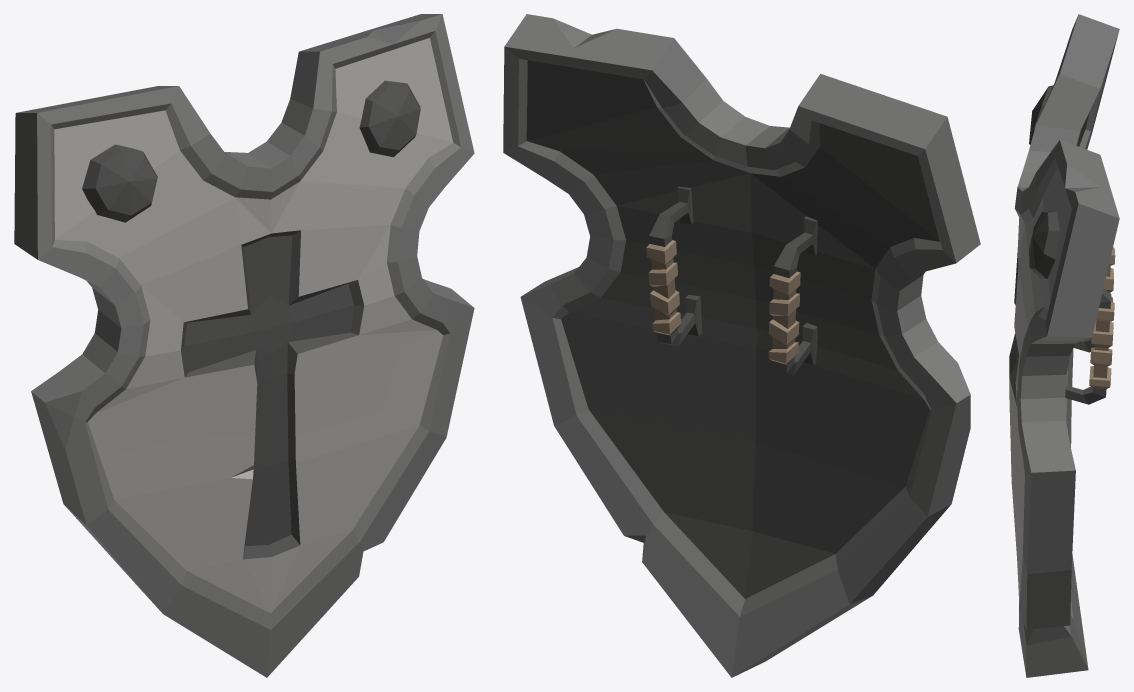
File: SM_Wep_Shield_Heater_01.glb
The picture shows the model from 3 angles, left to right: view 1: azimuth 30°, elevation 25°; view 2: azimuth 150°, elevation 25°; view 3: azimuth 270°, elevation 25°; orthographic projection. The views are drawn at different scales.
Parts seen in each view (by area): view 1: SM_Wep_Shield_Heater_01; view 2: SM_Wep_Shield_Heater_01; view 3: SM_Wep_Shield_Heater_01.
Part boxes in pixels (x1,y1,x2,y2): SM_Wep_Shield_Heater_01: (14,14,474,677); SM_Wep_Shield_Heater_01: (503,14,980,677); SM_Wep_Shield_Heater_01: (1009,14,1119,677).
Bounding box in the file's own units: 0.00649 × 0.00847 × 0.00149.
Materials: 1 (1 with a texture image).
